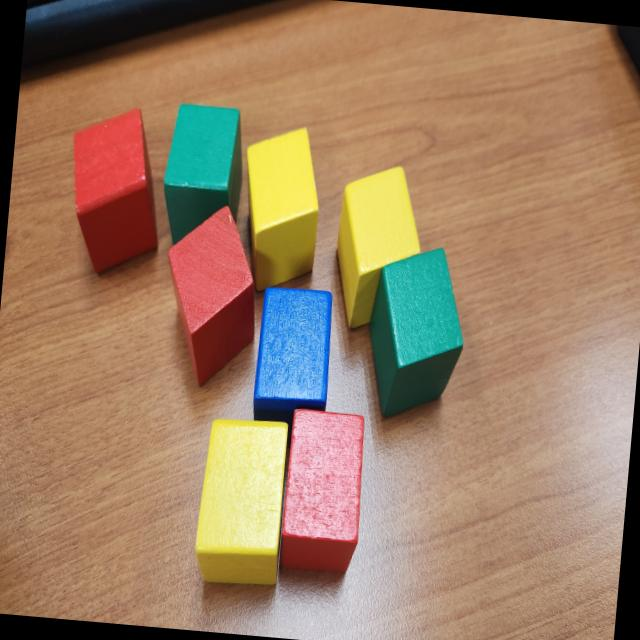blue: (249, 286, 337, 432)
green: (358, 240, 471, 428), (156, 100, 248, 254)
red: (154, 200, 266, 394), (58, 102, 169, 280), (276, 404, 369, 578)
yellow: (234, 115, 328, 298), (194, 413, 290, 590), (332, 160, 428, 336)
